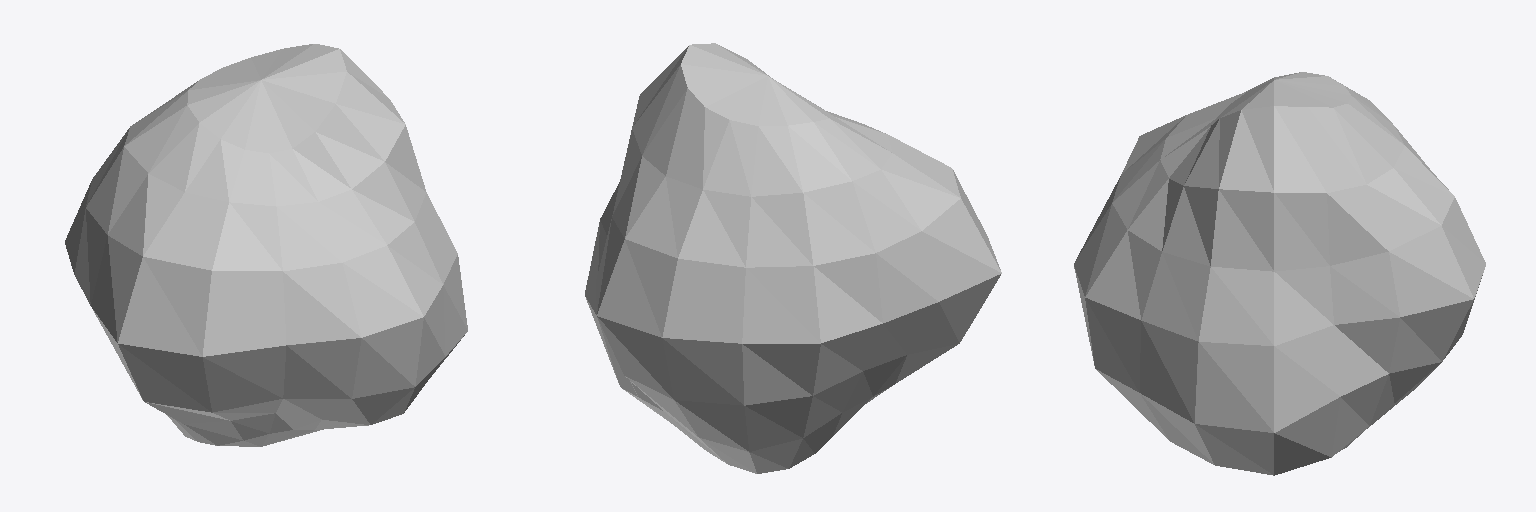
The model's file is GlueBall.obj.
The picture shows the model from 3 angles: view 1: azimuth 30°, elevation 25°; view 2: azimuth 150°, elevation 25°; view 3: azimuth 270°, elevation 25°; orthographic projection.
Parts seen in each view (by area): view 1: Sphere; view 2: Sphere; view 3: Sphere.
Boxes of the visible parts, <box> form: Sphere: <box>65,44,467,446</box>; Sphere: <box>585,43,1001,473</box>; Sphere: <box>1074,72,1485,475</box>.
Bounding box in the file's own units: 0.2158 × 0.2099 × 0.2071.